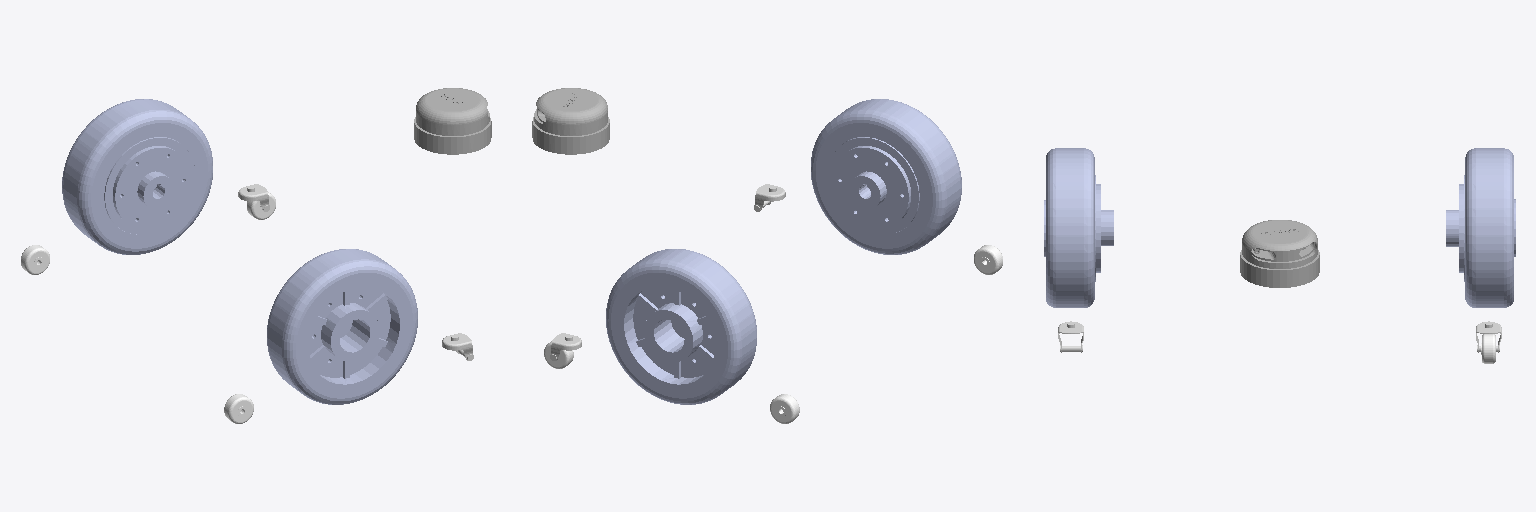
URDF robot description (urdfamrv2):
<?xml version="1.0" encoding="utf-8"?>
<!-- This URDF was automatically created by SolidWorks to URDF Exporter! Originally created by [author] ([email redacted]) 
     Commit Version: 1.6.0-4-g7f85cfe  Build Version: 1.6.7995.38578
     For more information, please see http://wiki.ros.org/sw_urdf_exporter -->
<robot
  name="urdfamrv2">
  <link
    name="base_link">
    <inertial>
      <origin
        xyz="0.0177643525771211 -0.000160993938675101 -0.0300835599325023"
        rpy="0 0 0" />
      <mass
        value="10.0323956886448" />
      <inertia
        ixx="0.121481181408484"
        ixy="4.99832632722136E-06"
        ixz="0.00133215329818063"
        iyy="0.120564492716562"
        iyz="6.93637170319615E-07"
        izz="0.225310260618626" />
    </inertial>
    <visual>
      <origin
        xyz="0 0 0"
        rpy="0 0 0" />
      <geometry>
        <mesh
          filename="package://urdfamrv2/meshes/base_link.STL" />
      </geometry>
      <material
        name="">
        <color
          rgba="0.792156862745098 0.819607843137255 0.933333333333333 1" />
      </material>
    </visual>
    <collision>
      <origin
        xyz="0 0 0"
        rpy="0 0 0" />
      <geometry>
        <mesh
          filename="package://urdfamrv2/meshes/base_link.STL" />
      </geometry>
    </collision>
  </link>
  <link
    name="linkfrontleft">
    <inertial>
      <origin
        xyz="0.00486777207299285 -1.00390112889315E-10 -0.00919906935736482"
        rpy="0 0 0" />
      <mass
        value="0.0145542102257426" />
      <inertia
        ixx="1.09550256894124E-06"
        ixy="-4.9902635445605E-15"
        ixz="1.38605292642401E-07"
        iyy="8.15088209063063E-07"
        iyz="1.43312162943118E-13"
        izz="1.39418606238894E-06" />
    </inertial>
    <visual>
      <origin
        xyz="0 0 0"
        rpy="0 0 0" />
      <geometry>
        <mesh
          filename="package://urdfamrv2/meshes/linkfrontleft.STL" />
      </geometry>
      <material
        name="">
        <color
          rgba="0.898039215686275 0.898039215686275 0.898039215686275 1" />
      </material>
    </visual>
    <collision>
      <origin
        xyz="0 0 0"
        rpy="0 0 0" />
      <geometry>
        <mesh
          filename="package://urdfamrv2/meshes/linkfrontleft.STL" />
      </geometry>
    </collision>
  </link>
  <joint
    name="frontleftjoint"
    type="continuous">
    <origin
      xyz="0.127476918751024 0.198968594229539 -0.1387"
      rpy="0 0 0" />
    <parent
      link="base_link" />
    <child
      link="linkfrontleft" />
    <axis
      xyz="0 0 -1" />
    <limit
      effort="1"
      velocity="1" />
  </joint>
  <link
    name="linkfrontleftwheel">
    <inertial>
      <origin
        xyz="-2.77555756156289E-17 0 0"
        rpy="0 0 0" />
      <mass
        value="0.00860106805645204" />
      <inertia
        ixx="5.60947696052157E-07"
        ixy="5.64114385290835E-23"
        ixz="7.24786767464638E-39"
        iyy="8.7056647481272E-07"
        iyz="2.58667410873886E-23"
        izz="5.60947696052157E-07" />
    </inertial>
    <visual>
      <origin
        xyz="0 0 0"
        rpy="0 0 0" />
      <geometry>
        <mesh
          filename="package://urdfamrv2/meshes/linkfrontleftwheel.STL" />
      </geometry>
      <material
        name="">
        <color
          rgba="1 1 1 1" />
      </material>
    </visual>
    <collision>
      <origin
        xyz="0 0 0"
        rpy="0 0 0" />
      <geometry>
        <mesh
          filename="package://urdfamrv2/meshes/linkfrontleftwheel.STL" />
      </geometry>
    </collision>
  </link>
  <joint
    name="frontleftwheeljoint"
    type="continuous">
    <origin
      xyz="0.0115 4.99999999999667E-05 -0.01975"
      rpy="0 0 0" />
    <parent
      link="linkfrontleft" />
    <child
      link="linkfrontleftwheel" />
    <axis
      xyz="0 -1 0" />
    <limit
      effort="1"
      velocity="1" />
  </joint>
  <link
    name="linkfrontright">
    <inertial>
      <origin
        xyz="0.00486777207299288 -1.00390112889315E-10 -0.00919906935736481"
        rpy="0 0 0" />
      <mass
        value="0.0145542102257426" />
      <inertia
        ixx="1.09550256894124E-06"
        ixy="-4.99025010118564E-15"
        ixz="1.38605292642399E-07"
        iyy="8.1508820906306E-07"
        iyz="1.43312150820266E-13"
        izz="1.39418606238894E-06" />
    </inertial>
    <visual>
      <origin
        xyz="0 0 0"
        rpy="0 0 0" />
      <geometry>
        <mesh
          filename="package://urdfamrv2/meshes/linkfrontright.STL" />
      </geometry>
      <material
        name="">
        <color
          rgba="0.898039215686275 0.898039215686275 0.898039215686275 1" />
      </material>
    </visual>
    <collision>
      <origin
        xyz="0 0 0"
        rpy="0 0 0" />
      <geometry>
        <mesh
          filename="package://urdfamrv2/meshes/linkfrontright.STL" />
      </geometry>
    </collision>
  </link>
  <joint
    name="frontrightjoint"
    type="continuous">
    <origin
      xyz="0.127476918751023 -0.199031405770461 -0.1387"
      rpy="0 0 0" />
    <parent
      link="base_link" />
    <child
      link="linkfrontright" />
    <axis
      xyz="0 0 -1" />
    <limit
      effort="1"
      velocity="1" />
  </joint>
  <link
    name="linkfrontrightwheel">
    <inertial>
      <origin
        xyz="-2.77555756156289E-17 0 1.73472347597681E-18"
        rpy="0 0 0" />
      <mass
        value="0.00860106805645204" />
      <inertia
        ixx="5.60947696052158E-07"
        ixy="6.28709636152826E-23"
        ixz="-6.71159324065182E-24"
        iyy="8.7056647481272E-07"
        iyz="1.71740024517124E-24"
        izz="5.60947696052158E-07" />
    </inertial>
    <visual>
      <origin
        xyz="0 0 0"
        rpy="0 0 0" />
      <geometry>
        <mesh
          filename="package://urdfamrv2/meshes/linkfrontrightwheel.STL" />
      </geometry>
      <material
        name="">
        <color
          rgba="1 1 1 1" />
      </material>
    </visual>
    <collision>
      <origin
        xyz="0 0 0"
        rpy="0 0 0" />
      <geometry>
        <mesh
          filename="package://urdfamrv2/meshes/linkfrontrightwheel.STL" />
      </geometry>
    </collision>
  </link>
  <joint
    name="frontrightweeljoint"
    type="continuous">
    <origin
      xyz="0.0115 5.00000000000222E-05 -0.01975"
      rpy="0 0 0" />
    <parent
      link="linkfrontright" />
    <child
      link="linkfrontrightwheel" />
    <axis
      xyz="0 -1 0" />
    <limit
      effort="1"
      velocity="1" />
  </joint>
  <link
    name="linkrearleft">
    <inertial>
      <origin
        xyz="0.00486777207299278 -1.00390112889315E-10 -0.00919906935736473"
        rpy="0 0 0" />
      <mass
        value="0.0145542102257424" />
      <inertia
        ixx="1.09550256894122E-06"
        ixy="-4.99025791376239E-15"
        ixz="1.38605292642382E-07"
        iyy="8.15088209063025E-07"
        iyz="1.4331215654502E-13"
        izz="1.39418606238891E-06" />
    </inertial>
    <visual>
      <origin
        xyz="0 0 0"
        rpy="0 0 0" />
      <geometry>
        <mesh
          filename="package://urdfamrv2/meshes/linkrearleft.STL" />
      </geometry>
      <material
        name="">
        <color
          rgba="0.898039215686275 0.898039215686275 0.898039215686275 1" />
      </material>
    </visual>
    <collision>
      <origin
        xyz="0 0 0"
        rpy="0 0 0" />
      <geometry>
        <mesh
          filename="package://urdfamrv2/meshes/linkrearleft.STL" />
      </geometry>
    </collision>
  </link>
  <joint
    name="rearleftjoint"
    type="continuous">
    <origin
      xyz="-0.127523081248976 0.19896859422954 -0.1387"
      rpy="0 0 0" />
    <parent
      link="base_link" />
    <child
      link="linkrearleft" />
    <axis
      xyz="0 0 -1" />
    <limit
      effort="1"
      velocity="1" />
  </joint>
  <link
    name="linkrearleftwheel">
    <inertial>
      <origin
        xyz="1.38777878078145E-17 0 1.73472347597681E-18"
        rpy="0 0 0" />
      <mass
        value="0.00860106805645204" />
      <inertia
        ixx="5.60947696052158E-07"
        ixy="6.61545791442258E-23"
        ixz="-6.76414505894308E-24"
        iyy="8.7056647481272E-07"
        iyz="1.51222004710173E-24"
        izz="5.60947696052158E-07" />
    </inertial>
    <visual>
      <origin
        xyz="0 0 0"
        rpy="0 0 0" />
      <geometry>
        <mesh
          filename="package://urdfamrv2/meshes/linkrearleftwheel.STL" />
      </geometry>
      <material
        name="">
        <color
          rgba="1 1 1 1" />
      </material>
    </visual>
    <collision>
      <origin
        xyz="0 0 0"
        rpy="0 0 0" />
      <geometry>
        <mesh
          filename="package://urdfamrv2/meshes/linkrearleftwheel.STL" />
      </geometry>
    </collision>
  </link>
  <joint
    name="rearleftwheeljoint"
    type="continuous">
    <origin
      xyz="0.0115 5.00000000000222E-05 -0.01975"
      rpy="0 0 0" />
    <parent
      link="linkrearleft" />
    <child
      link="linkrearleftwheel" />
    <axis
      xyz="0 -1 0" />
    <limit
      effort="1"
      velocity="1" />
  </joint>
  <link
    name="linkrearright">
    <inertial>
      <origin
        xyz="0.00486777207299287 -1.00390168400466E-10 -0.00919906935736483"
        rpy="0 0 0" />
      <mass
        value="0.0145542102257427" />
      <inertia
        ixx="1.09550256894126E-06"
        ixy="-4.99025430369156E-15"
        ixz="1.38605292642403E-07"
        iyy="8.15088209063071E-07"
        iyz="1.43312157945304E-13"
        izz="1.39418606238896E-06" />
    </inertial>
    <visual>
      <origin
        xyz="0 0 0"
        rpy="0 0 0" />
      <geometry>
        <mesh
          filename="package://urdfamrv2/meshes/linkrearright.STL" />
      </geometry>
      <material
        name="">
        <color
          rgba="0.898039215686275 0.898039215686275 0.898039215686275 1" />
      </material>
    </visual>
    <collision>
      <origin
        xyz="0 0 0"
        rpy="0 0 0" />
      <geometry>
        <mesh
          filename="package://urdfamrv2/meshes/linkrearright.STL" />
      </geometry>
    </collision>
  </link>
  <joint
    name="rearrightjoint"
    type="continuous">
    <origin
      xyz="-0.127523081248977 -0.19903140577046 -0.1387"
      rpy="0 0 0" />
    <parent
      link="base_link" />
    <child
      link="linkrearright" />
    <axis
      xyz="0 0 -1" />
    <limit
      effort="1"
      velocity="1" />
  </joint>
  <link
    name="linkrearrightwheel">
    <inertial>
      <origin
        xyz="-6.93889390390723E-17 -0.398 1.73472347597681E-18"
        rpy="0 0 0" />
      <mass
        value="0.00860106805645204" />
      <inertia
        ixx="5.60947696052158E-07"
        ixy="6.61545791442258E-23"
        ixz="-6.76414505894308E-24"
        iyy="8.7056647481272E-07"
        iyz="1.51222004710173E-24"
        izz="5.60947696052158E-07" />
    </inertial>
    <visual>
      <origin
        xyz="0 0 0"
        rpy="0 0 0" />
      <geometry>
        <mesh
          filename="package://urdfamrv2/meshes/linkrearrightwheel.STL" />
      </geometry>
      <material
        name="">
        <color
          rgba="1 1 1 1" />
      </material>
    </visual>
    <collision>
      <origin
        xyz="0 0 0"
        rpy="0 0 0" />
      <geometry>
        <mesh
          filename="package://urdfamrv2/meshes/linkrearrightwheel.STL" />
      </geometry>
    </collision>
  </link>
  <joint
    name="rearrightwheeljoint"
    type="continuous">
    <origin
      xyz="0.0115000000000001 0.39805 -0.01975"
      rpy="0 0 0" />
    <parent
      link="linkrearright" />
    <child
      link="linkrearrightwheel" />
    <axis
      xyz="0 -1 0" />
    <limit
      effort="1"
      velocity="1" />
  </joint>
  <link
    name="linkleftwheel">
    <inertial>
      <origin
        xyz="-1.95465918673215E-07 -0.0107995773104437 -2.31143510954629E-05"
        rpy="0 0 0" />
      <mass
        value="1.07359334471716" />
      <inertia
        ixx="0.00132624792012178"
        ixy="1.34971364901024E-09"
        ixz="-2.97767681852217E-09"
        iyy="0.00242841647930193"
        iyz="1.84182544910959E-08"
        izz="0.00132644709385717" />
    </inertial>
    <visual>
      <origin
        xyz="0 0 0"
        rpy="0 0 0" />
      <geometry>
        <mesh
          filename="package://urdfamrv2/meshes/linkleftwheel.STL" />
      </geometry>
      <material
        name="">
        <color
          rgba="0.792156862745098 0.819607843137255 0.933333333333333 1" />
      </material>
    </visual>
    <collision>
      <origin
        xyz="0 0 0"
        rpy="0 0 0" />
      <geometry>
        <mesh
          filename="package://urdfamrv2/meshes/linkleftwheel.STL" />
      </geometry>
    </collision>
  </link>
  <joint
    name="leftwheeljoint"
    type="continuous">
    <origin
      xyz="-2.30812489653795E-05 0.19996859422953 -0.0965"
      rpy="0 0 0" />
    <parent
      link="base_link" />
    <child
      link="linkleftwheel" />
    <axis
      xyz="0 1 0" />
    <limit
      effort="1"
      velocity="1" />
  </joint>
  <link
    name="linkrightwheel">
    <inertial>
      <origin
        xyz="1.95465891785837E-07 0.0107995773104531 -2.31143510956919E-05"
        rpy="0 0 0" />
      <mass
        value="1.07359334471716" />
      <inertia
        ixx="0.00132624792012178"
        ixy="1.34971364898648E-09"
        ixz="2.97767681852187E-09"
        iyy="0.00242841647930194"
        iyz="-1.84182544910958E-08"
        izz="0.00132644709385718" />
    </inertial>
    <visual>
      <origin
        xyz="0 0 0"
        rpy="0 0 0" />
      <geometry>
        <mesh
          filename="package://urdfamrv2/meshes/linkrightwheel.STL" />
      </geometry>
      <material
        name="">
        <color
          rgba="0.792156862745098 0.819607843137255 0.933333333333333 1" />
      </material>
    </visual>
    <collision>
      <origin
        xyz="0 0 0"
        rpy="0 0 0" />
      <geometry>
        <mesh
          filename="package://urdfamrv2/meshes/linkrightwheel.STL" />
      </geometry>
    </collision>
  </link>
  <joint
    name="rightwheeljoint"
    type="continuous">
    <origin
      xyz="-2.30812489631387E-05 -0.20003140577047 -0.0964999999999999"
      rpy="0 0 0" />
    <parent
      link="base_link" />
    <child
      link="linkrightwheel" />
    <axis
      xyz="0 -1 0" />
    <limit
      effort="1"
      velocity="1" />
  </joint>
  <link
    name="linklidar">
    <inertial>
      <origin
        xyz="-0.000934114123158664 -0.000257111559113189 -0.012214812339934"
        rpy="0 0 0" />
      <mass
        value="0.163065638152251" />
      <inertia
        ixx="6.07268103362095E-05"
        ixy="1.10369384352206E-07"
        ixz="-2.32156900420164E-07"
        iyy="6.0437153377206E-05"
        iyz="-6.56085972110151E-08"
        izz="0.000107589150508222" />
    </inertial>
    <visual>
      <origin
        xyz="0 0 0"
        rpy="0 0 0" />
      <geometry>
        <mesh
          filename="package://urdfamrv2/meshes/linklidar.STL" />
      </geometry>
      <material
        name="">
        <color
          rgba="0.752941176470588 0.752941176470588 0.752941176470588 1" />
      </material>
    </visual>
    <collision>
      <origin
        xyz="0 0 0"
        rpy="0 0 0" />
      <geometry>
        <mesh
          filename="package://urdfamrv2/meshes/linklidar.STL" />
      </geometry>
    </collision>
  </link>
  <joint
    name="lidarjoint"
    type="fixed">
    <origin
      xyz="0.239976918751023 -3.14057704717225E-05 0.00130000000000047"
      rpy="0 0 0" />
    <parent
      link="base_link" />
    <child
      link="linklidar" />
    <axis
      xyz="0 0 0" />
  </joint>
</robot>

--- What the picture shows (computed from the rendered views, not written in the file) ---
Views: 3 orthographic renders of the robot side by side, from view 1: azimuth 30°, elevation 25°; view 2: azimuth 150°, elevation 25°; view 3: azimuth 270°, elevation 25°.
Model urdfamrv2 with 12 links and 11 joints (10 continuous, 1 fixed), rooted at base_link, posed all joints at 0.
Links seen in each view (by area): view 1: linkrightwheel, linkleftwheel, linklidar, linkrearrightwheel, linkrearleftwheel, linkfrontright; view 2: linkleftwheel, linkrightwheel, linklidar, linkrearleftwheel, linkrearrightwheel, linkfrontright, linkfrontleft; view 3: linkleftwheel, linkrightwheel, linklidar.
Boxes of the visible links, left/top/right/bottom form: linkrightwheel: left=267, top=249, right=417, bottom=404; linkleftwheel: left=62, top=99, right=212, bottom=254; linklidar: left=414, top=88, right=491, bottom=154; linkrearrightwheel: left=224, top=394, right=253, bottom=423; linkrearleftwheel: left=21, top=245, right=49, bottom=274; linkfrontright: left=442, top=333, right=473, bottom=360; linkleftwheel: left=606, top=249, right=756, bottom=404; linkrightwheel: left=811, top=99, right=961, bottom=254; linklidar: left=532, top=88, right=609, bottom=154; linkrearleftwheel: left=770, top=394, right=799, bottom=423; linkrearrightwheel: left=974, top=245, right=1002, bottom=274; linkfrontright: left=754, top=184, right=785, bottom=211; linkfrontleft: left=550, top=333, right=581, bottom=360; linkleftwheel: left=1446, top=148, right=1515, bottom=307; linkrightwheel: left=1044, top=148, right=1113, bottom=307; linklidar: left=1240, top=220, right=1319, bottom=287.
Size in the robot's own frame: 0.4081 by 0.449 by 0.184 metres.
Meshes: 12 distinct files referenced, 8 mesh visuals loaded (8 binary STL); not drawn: 4 (reference not matched to a file when rendering).